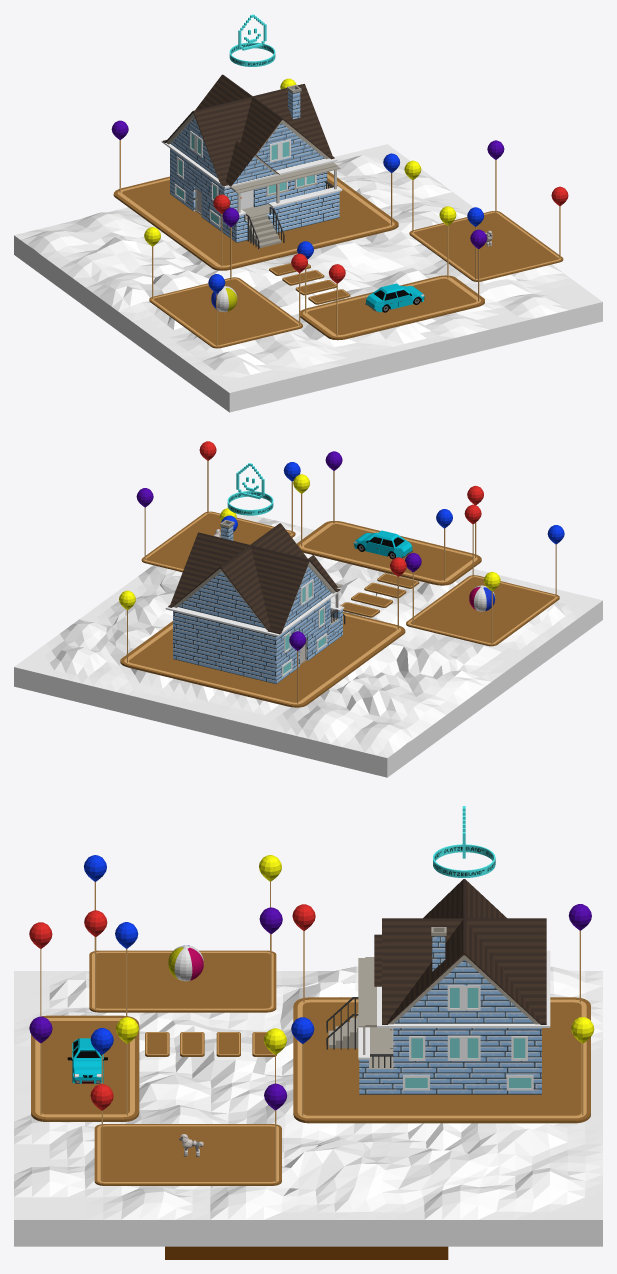
3 views of the same model, one above another, from view 1: azimuth 30°, elevation 25°; view 2: azimuth 150°, elevation 25°; view 3: azimuth 270°, elevation 25° (orthographic). The views are drawn at different scales.
Parts seen in each view (by area): view 1: Cube.013, Cube.547, VEHICLES_CAR, TYPE_PREMIUM, OBJRANDOM_BEACHBALL; view 2: Cube.013, Cube.547, VEHICLES_CAR, TYPE_PREMIUM, OBJRANDOM_BEACHBALL; view 3: Cube.013, Cube.547, UNDERGROUND_ART_PIECE_VAN_GOGH, VEHICLES_CAR, TYPE_PREMIUM, OBJRANDOM_BEACHBALL.
Part boxes in pixels (x1=…): Cube.013: x1=14, y1=78, x2=602, y2=412; Cube.547: x1=161, y1=74, x2=342, y2=249; VEHICLES_CAR: x1=365, y1=283, x2=424, y2=312; TYPE_PREMIUM: x1=229, y1=14, x2=275, y2=66; OBJRANDOM_BEACHBALL: x1=211, y1=286, x2=237, y2=312; Cube.013: x1=14, y1=441, x2=602, y2=777; Cube.547: x1=165, y1=520, x2=345, y2=683; VEHICLES_CAR: x1=353, y1=530, x2=412, y2=559; TYPE_PREMIUM: x1=227, y1=463, x2=273, y2=515; OBJRANDOM_BEACHBALL: x1=469, y1=585, x2=495, y2=611; Cube.013: x1=14, y1=855, x2=602, y2=1246; Cube.547: x1=326, y1=879, x2=550, y2=1094; UNDERGROUND_ART_PIECE_VAN_GOGH: x1=165, y1=1246, x2=448, y2=1259; VEHICLES_CAR: x1=67, y1=1038, x2=107, y2=1083; TYPE_PREMIUM: x1=433, y1=806, x2=495, y2=877; OBJRANDOM_BEACHBALL: x1=168, y1=945, x2=203, y2=981.
Size of the model in its own units: 4000 by 2569 by 4000.
36 materials, 4 textured.
